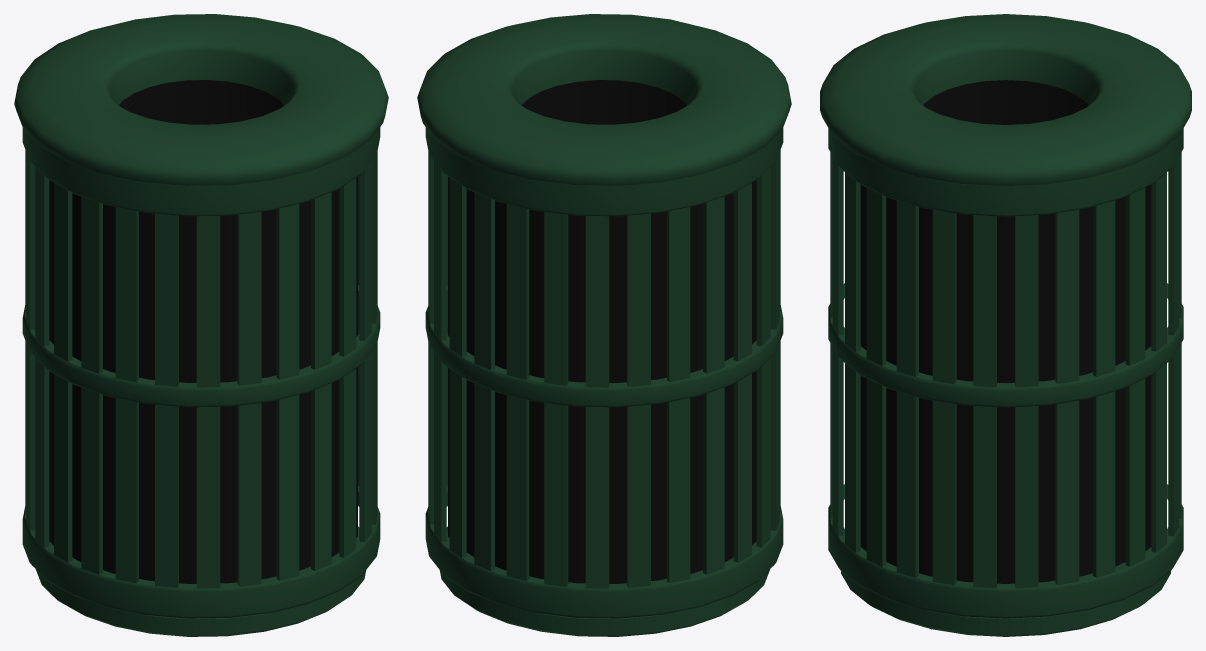
File: trash_bin.glb
3 renders of one model, left to right at view 1: azimuth 30°, elevation 25°; view 2: azimuth 150°, elevation 25°; view 3: azimuth 270°, elevation 25°, orthographic.
Visible parts, largest first — view 1: trash_bin; view 2: trash_bin; view 3: trash_bin.
Part boxes in pixels (x1,y1,x2,y2): trash_bin: (14, 14, 388, 636); trash_bin: (417, 14, 791, 636); trash_bin: (820, 14, 1191, 636).
Size of the model in its own units: 0.676 by 0.974 by 0.6711.
